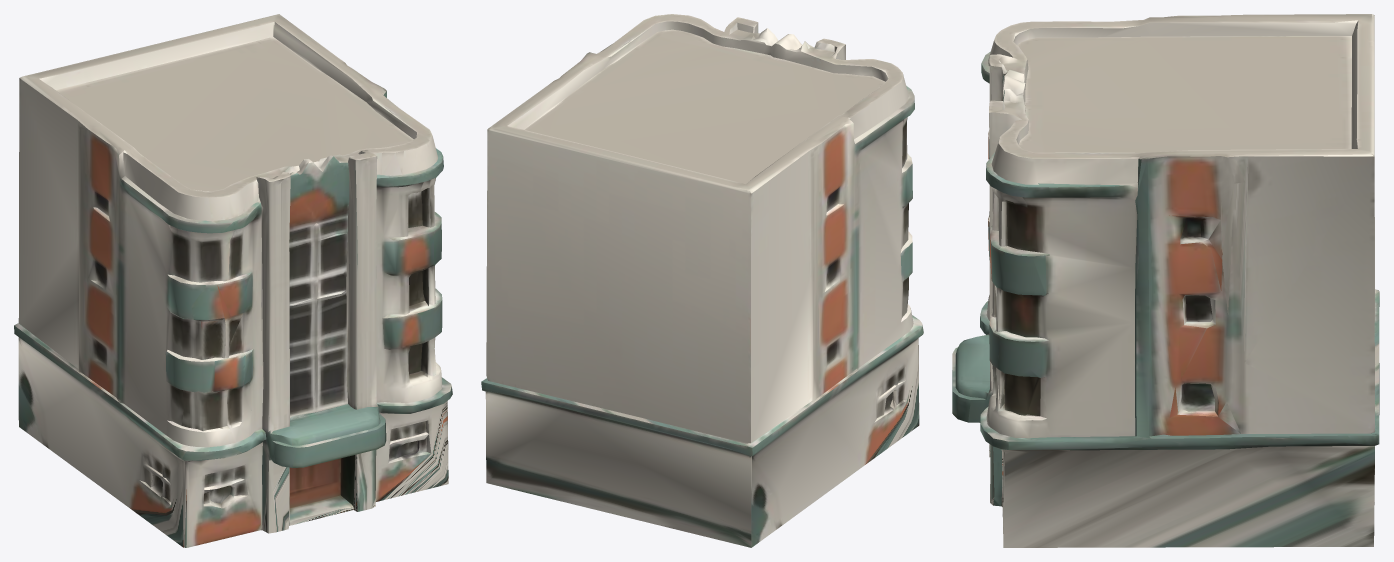
File: deco-apartment.glb
3 views of the same model, side by side, from view 1: azimuth 30°, elevation 25°; view 2: azimuth 150°, elevation 25°; view 3: azimuth 270°, elevation 25° (orthographic). The views are drawn at different scales.
Visible parts, largest first — view 1: deco-apartment; view 2: deco-apartment; view 3: deco-apartment.
Part boxes in pixels (box(x1,y1,x2,y2)): deco-apartment: box(14, 14, 452, 547); deco-apartment: box(481, 14, 923, 547); deco-apartment: box(952, 14, 1379, 547).
Size of the model in its own units: 6.6 by 8.2 by 8.
Materials: 1 (1 with a texture image).
